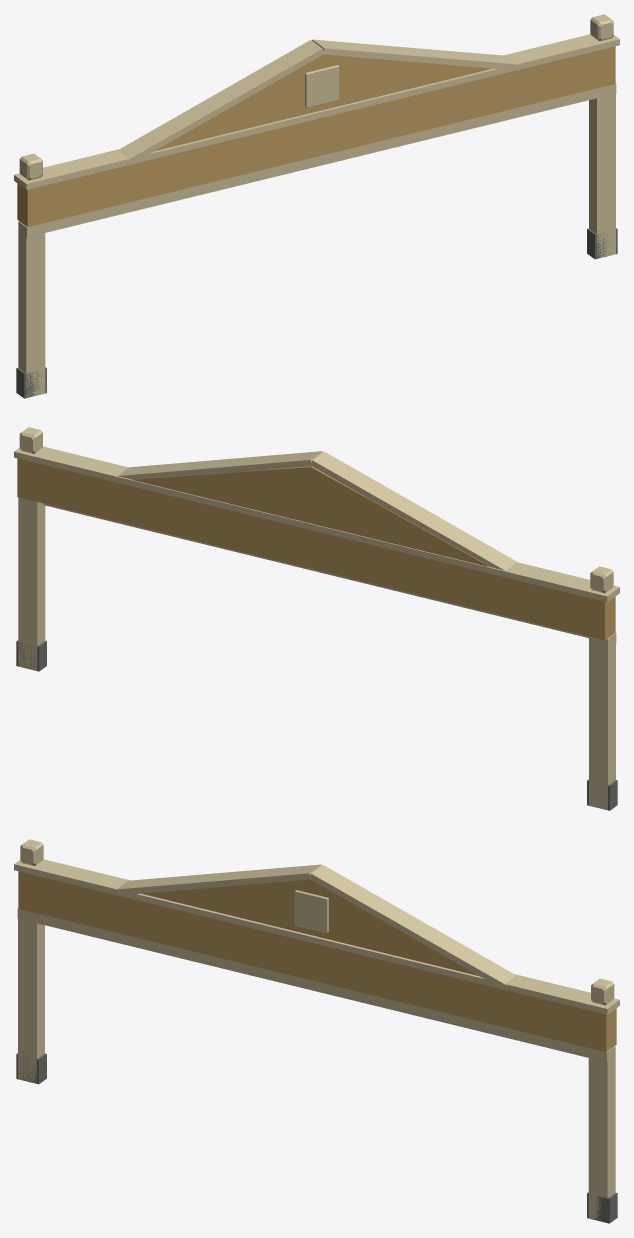
File: SM_Bld_Shop_Front_02.glb
3 views of the same model, one above another, from view 1: azimuth 30°, elevation 25°; view 2: azimuth 150°, elevation 25°; view 3: azimuth 330°, elevation 25° (orthographic).
Visible parts, largest first — view 1: SM_Bld_Shop_Front_02; view 2: SM_Bld_Shop_Front_02; view 3: SM_Bld_Shop_Front_02.
Part boxes in pixels (box(x1,y1,x2,y2)): SM_Bld_Shop_Front_02: box(14, 14, 619, 398); SM_Bld_Shop_Front_02: box(14, 427, 619, 810); SM_Bld_Shop_Front_02: box(14, 839, 619, 1223).
Size of the model in its own units: 12.52 by 5.64 by 0.47.
1 material, 1 textured.
